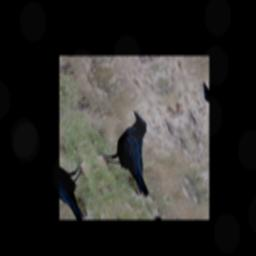Crow: (87, 108, 176, 207)
